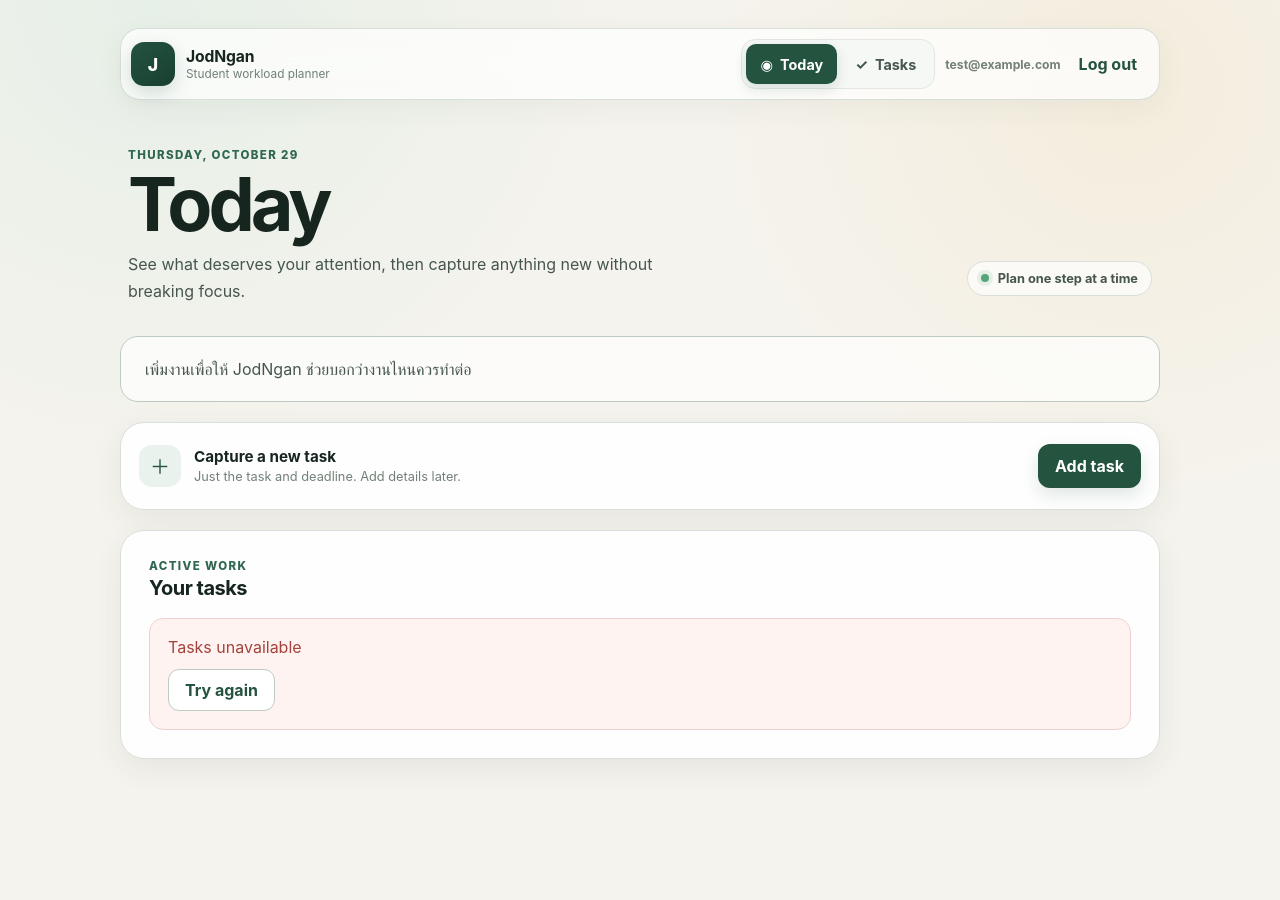
Test: single-user Today flow › shows a task-list error and recovers without blocking recommendation
The image size is (1280, 900).
Expected: the text "Tasks unavailable" is shown, [168, 637, 302, 657]
Step 1. Click the button "Try again" → (222, 690), box [168, 669, 275, 711]
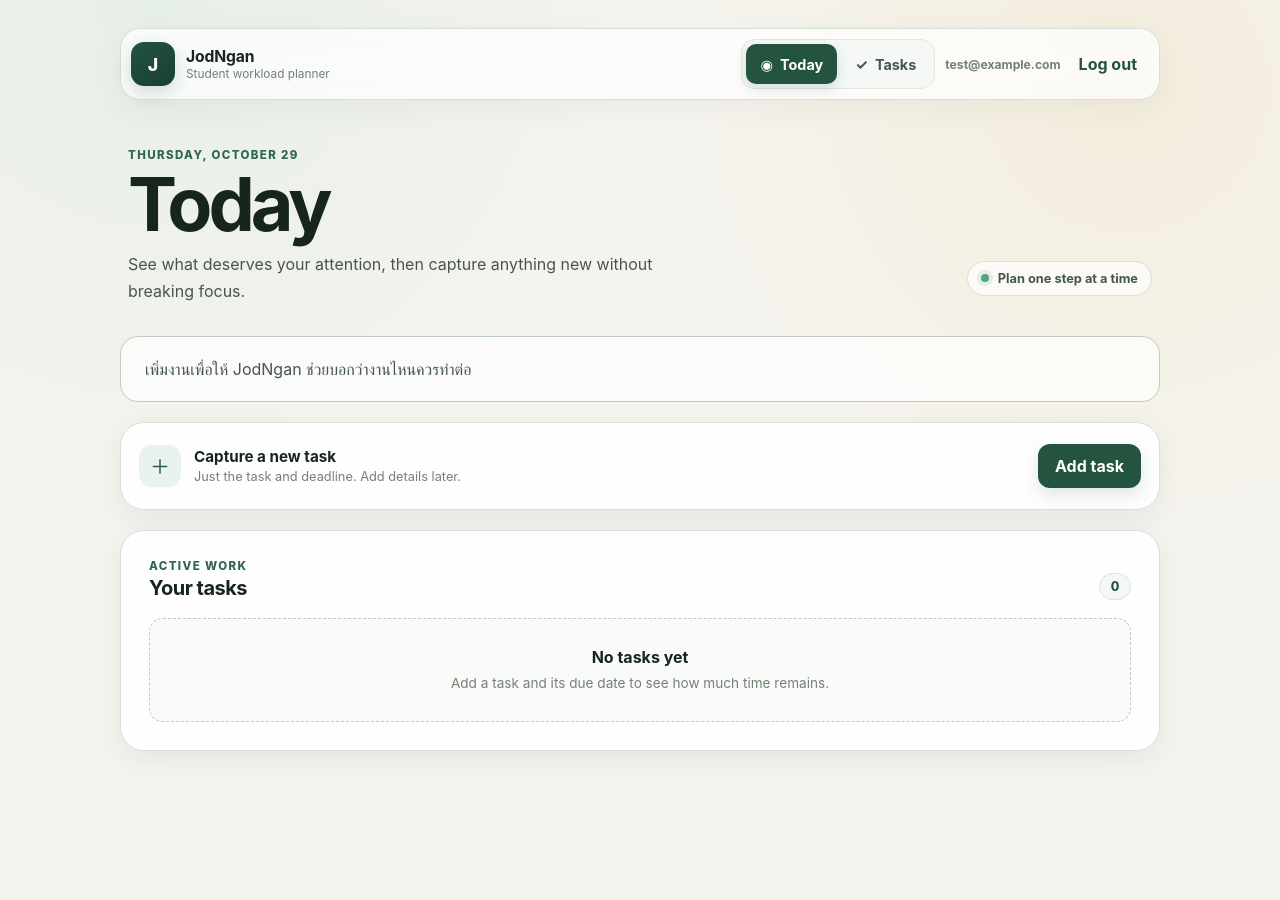
Now the heading "No tasks yet" is shown, box [592, 647, 688, 667]
